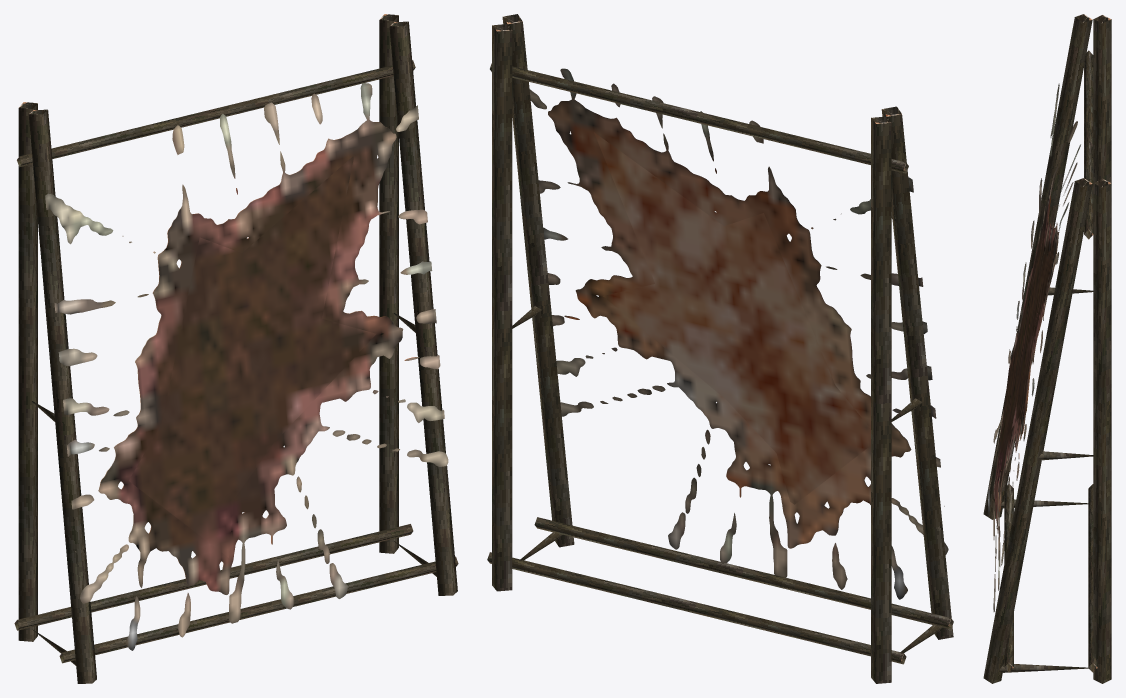
Rendered from thm_dant_hide_tanning_s01_l3.fbx.
3 views of the same model, side by side, from view 1: azimuth 30°, elevation 25°; view 2: azimuth 150°, elevation 25°; view 3: azimuth 270°, elevation 25° (orthographic). The views are drawn at different scales.
Visible parts, largest first — view 1: mesh_node; view 2: mesh_node; view 3: mesh_node.
Boxes of the visible parts, left/top/right/bottom form: mesh_node: left=14, top=14, right=458, bottom=683; mesh_node: left=487, top=14, right=953, bottom=683; mesh_node: left=983, top=14, right=1111, bottom=683.
Size of the model in its own units: 1.39 by 1.81 by 0.4214.
Materials: 2 (2 with a texture image).
